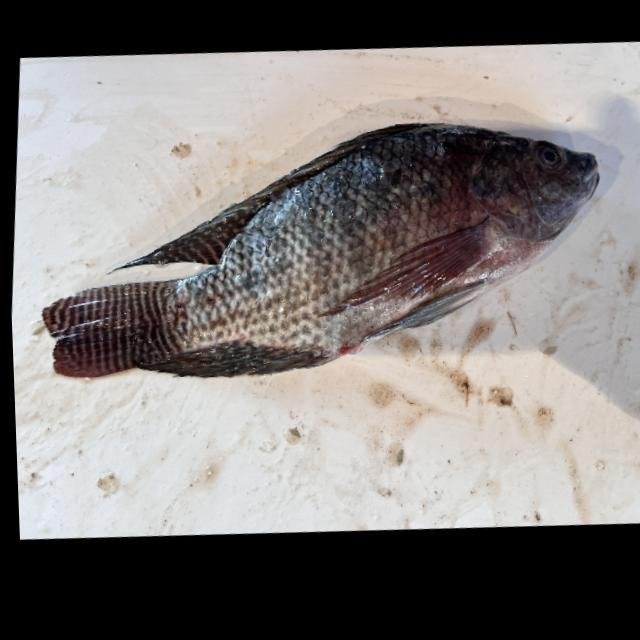Tilapia: (31, 79, 612, 420)
